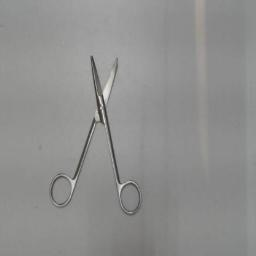Curved Mayo Scissors: (46, 48, 144, 220)
